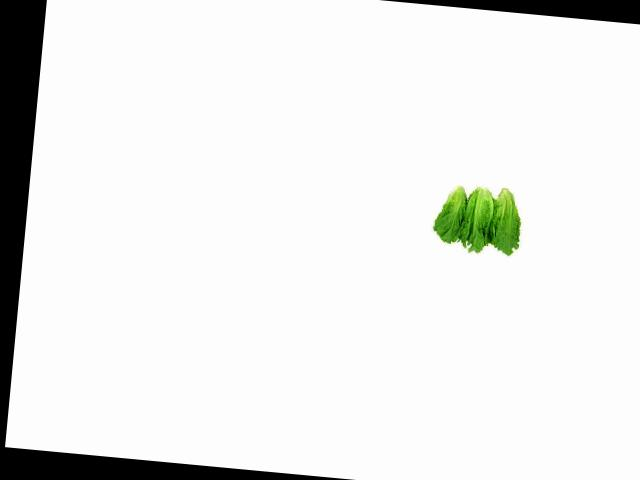lettuce: (431, 169, 474, 247)
